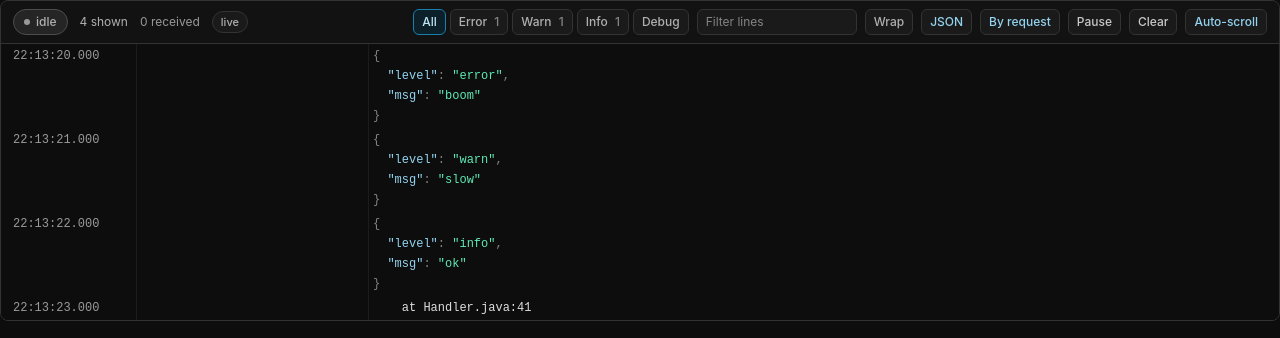
Test: LogViewer level filter › narrows to one level when its chip is pressed
Click the button with test id "level-error" at x=479, y=22, box [450,9,508,35]
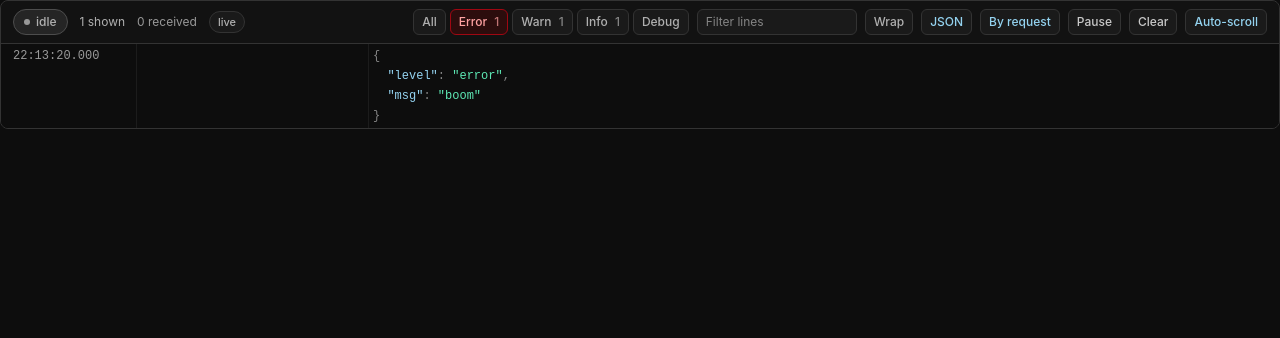
Expected: the text "\"boom\"" is shown, [438,89,481,103]
Expected: the number of list items with test id "log-line" is 1, [13,49,510,123]
Expected: the text with test id "visible-count" reads "1 shown", [80,14,125,29]
